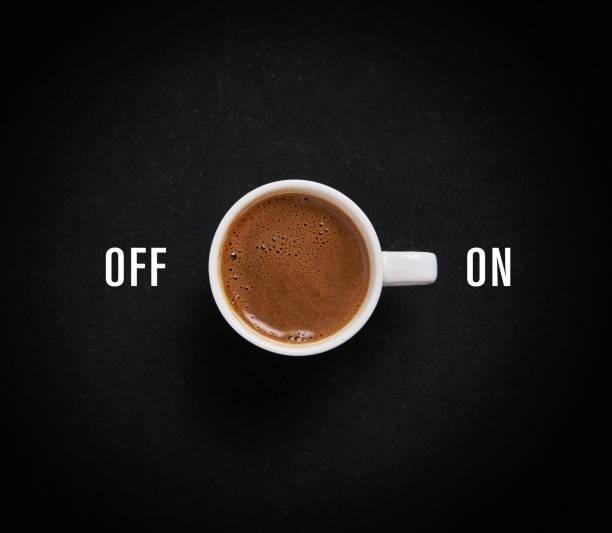cup-handle: (206, 177, 439, 362)
